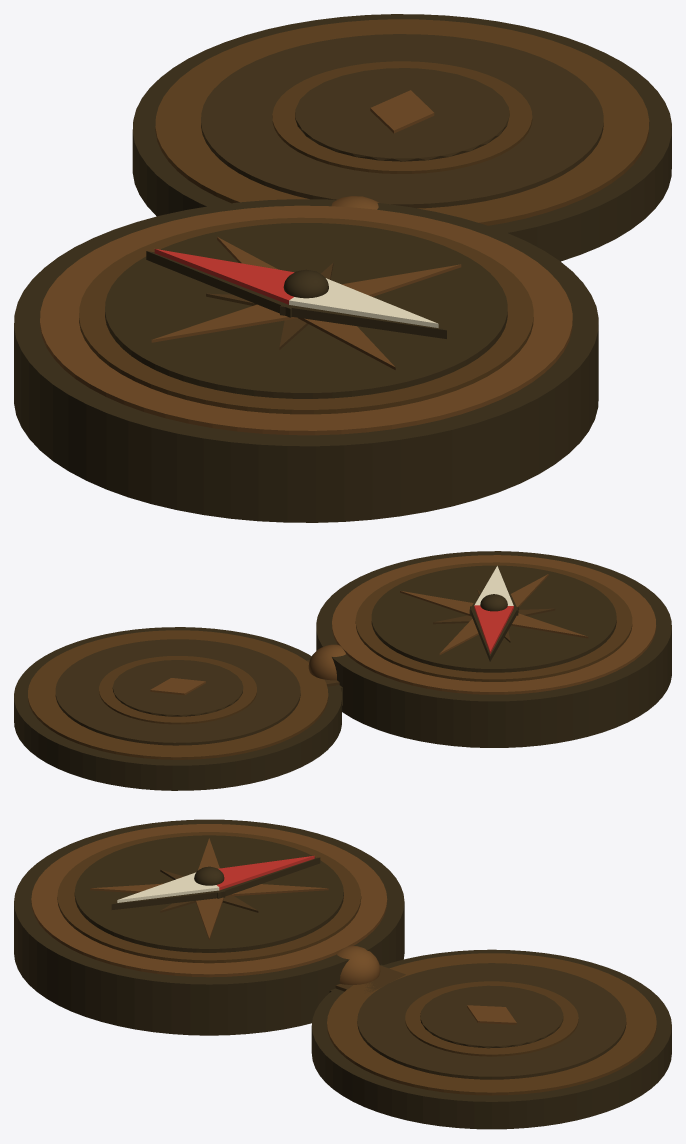
File: book_bussola.fbx
3 views of the same model, one above another, from view 1: azimuth 30°, elevation 25°; view 2: azimuth 150°, elevation 25°; view 3: azimuth 270°, elevation 25° (orthographic). The views are drawn at different scales.
Visible parts, largest first — view 1: book_bussola_livro; view 2: book_bussola_livro; view 3: book_bussola_livro.
Boxes of the visible parts, x1=… form: book_bussola_livro: x1=14, y1=14, x2=671, y2=522; book_bussola_livro: x1=14, y1=551, x2=671, y2=790; book_bussola_livro: x1=14, y1=819, x2=671, y2=1129.
Size of the model in its own units: 2.82 by 0.43 by 3.03.
Materials: 1 (1 with a texture image).
